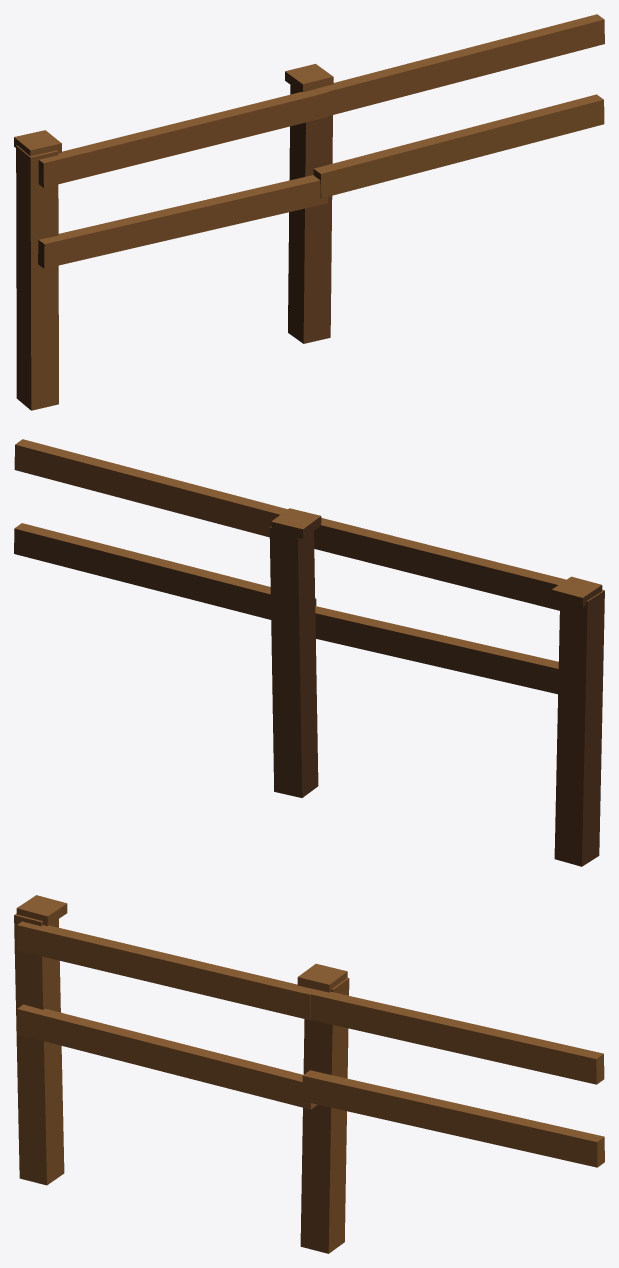
The model's file is mtn_fence.glb.
3 renders of one model, top to bottom at view 1: azimuth 30°, elevation 25°; view 2: azimuth 150°, elevation 25°; view 3: azimuth 330°, elevation 25°, orthographic. The views are drawn at different scales.
Visible parts, largest first — view 1: mtn_fence; view 2: mtn_fence; view 3: mtn_fence.
Boxes of the visible parts, <box> form: mtn_fence: <box>14,14,604,410</box>; mtn_fence: <box>14,439,604,866</box>; mtn_fence: <box>14,895,604,1253</box>.
Size of the model in its own units: 3.15 by 1.38 by 0.2373.
